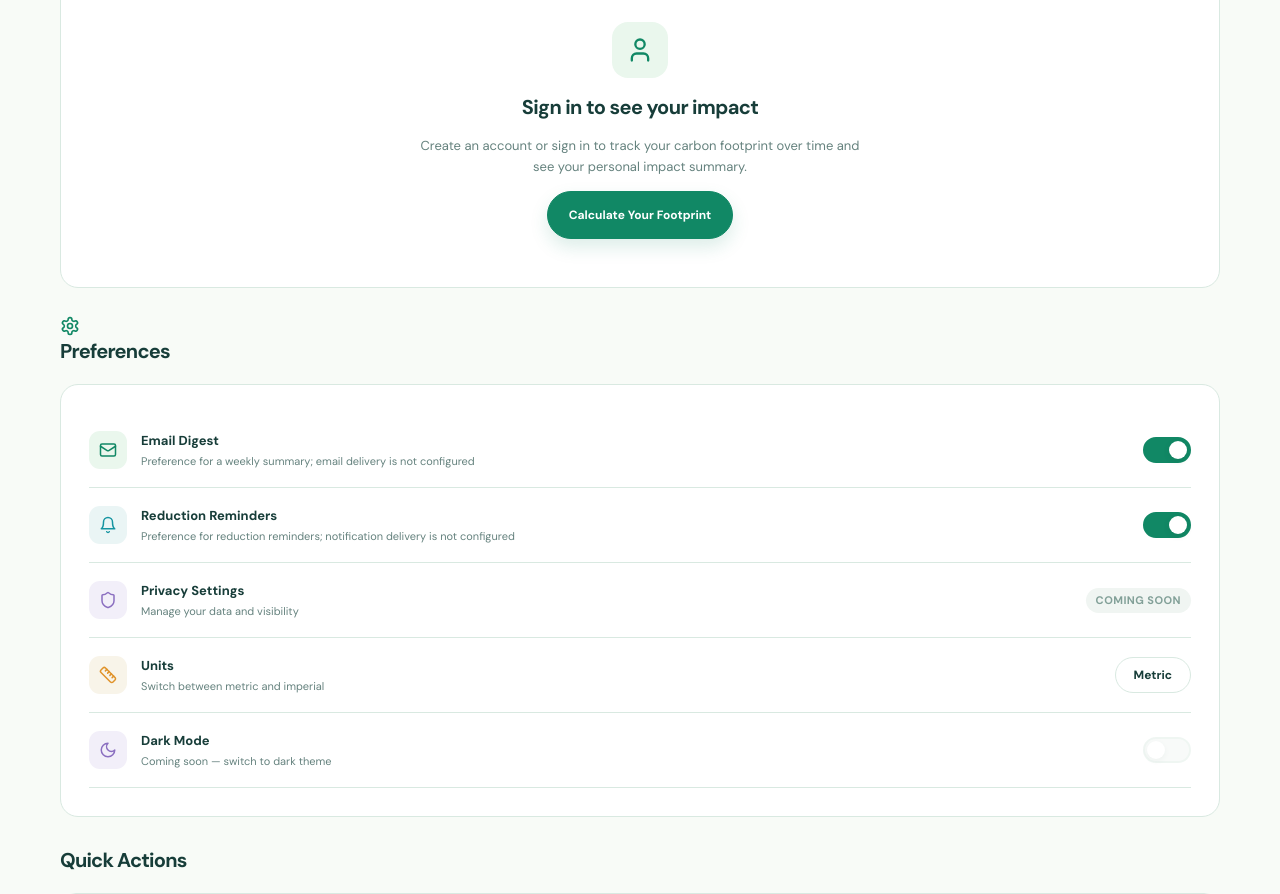
ProfilePage › allows toggling preferences and persists changes
(page scrolled)
Click the switch named "Toggle email digest" at point(1167, 450), box [1143,437,1191,463]
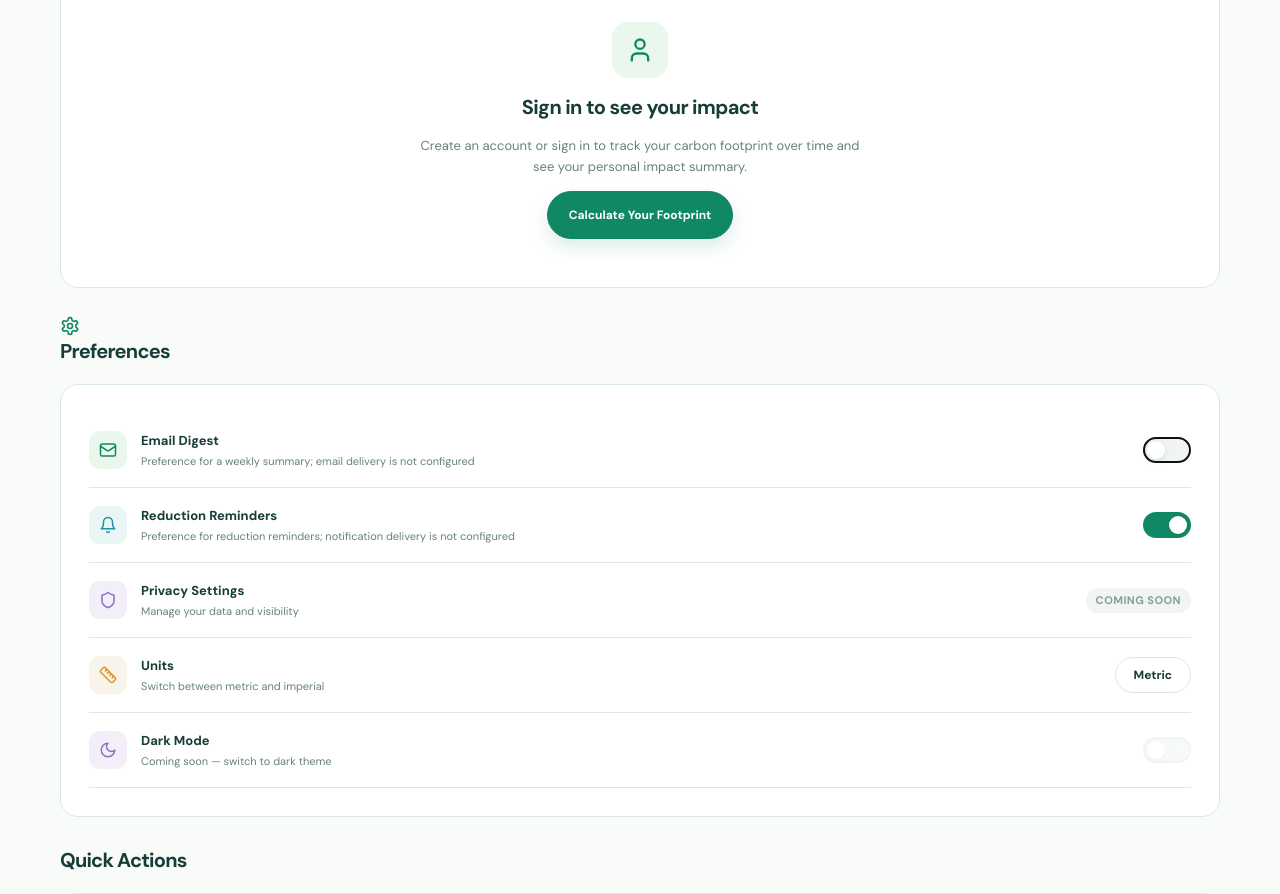
expect the switch named "Toggle email digest" is not checked: met, box [1143,437,1191,463]
Click the button with aria-label "Current units: metric" at point(1153, 675), box [1114,657,1191,693]
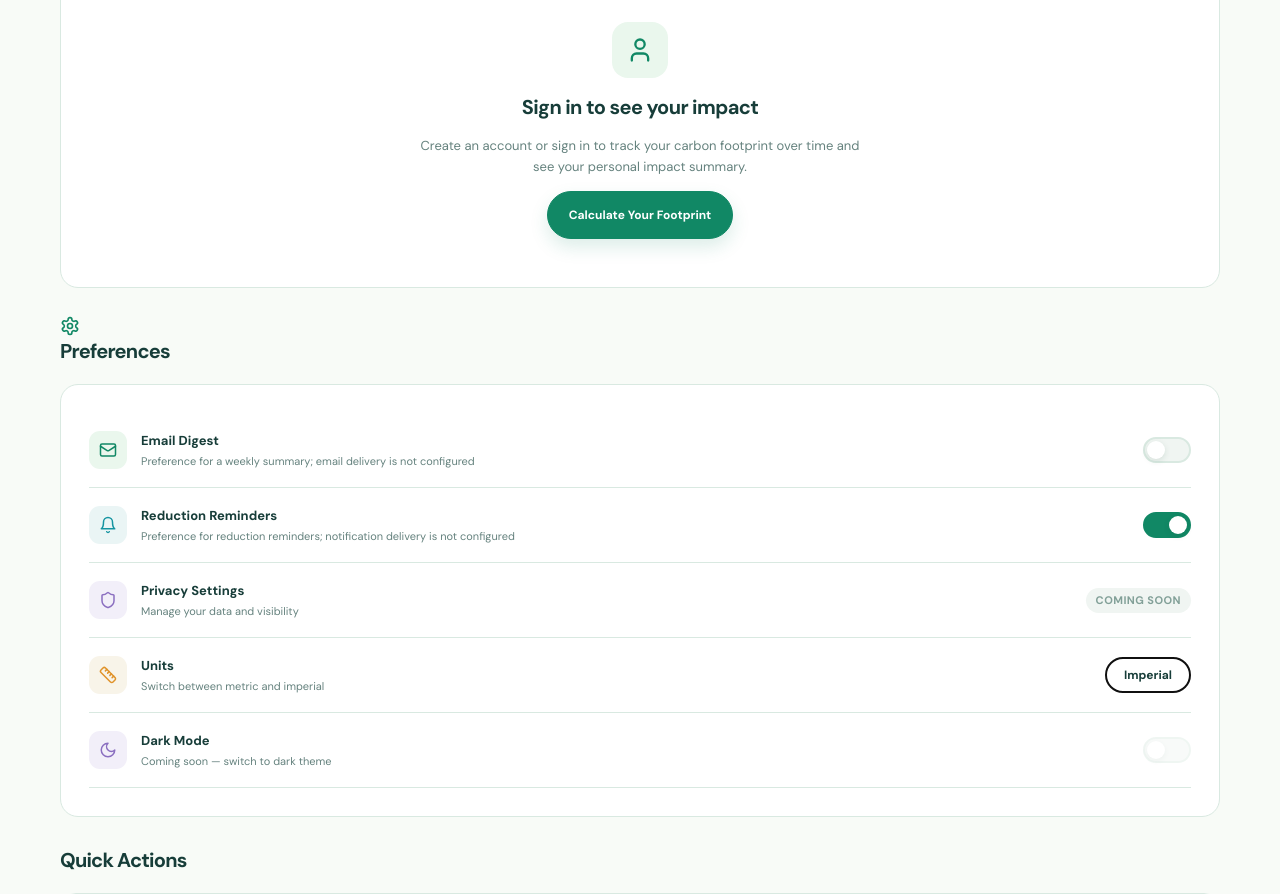
expect the button "Imperial" is shown: met, box [1105,657,1191,693]
